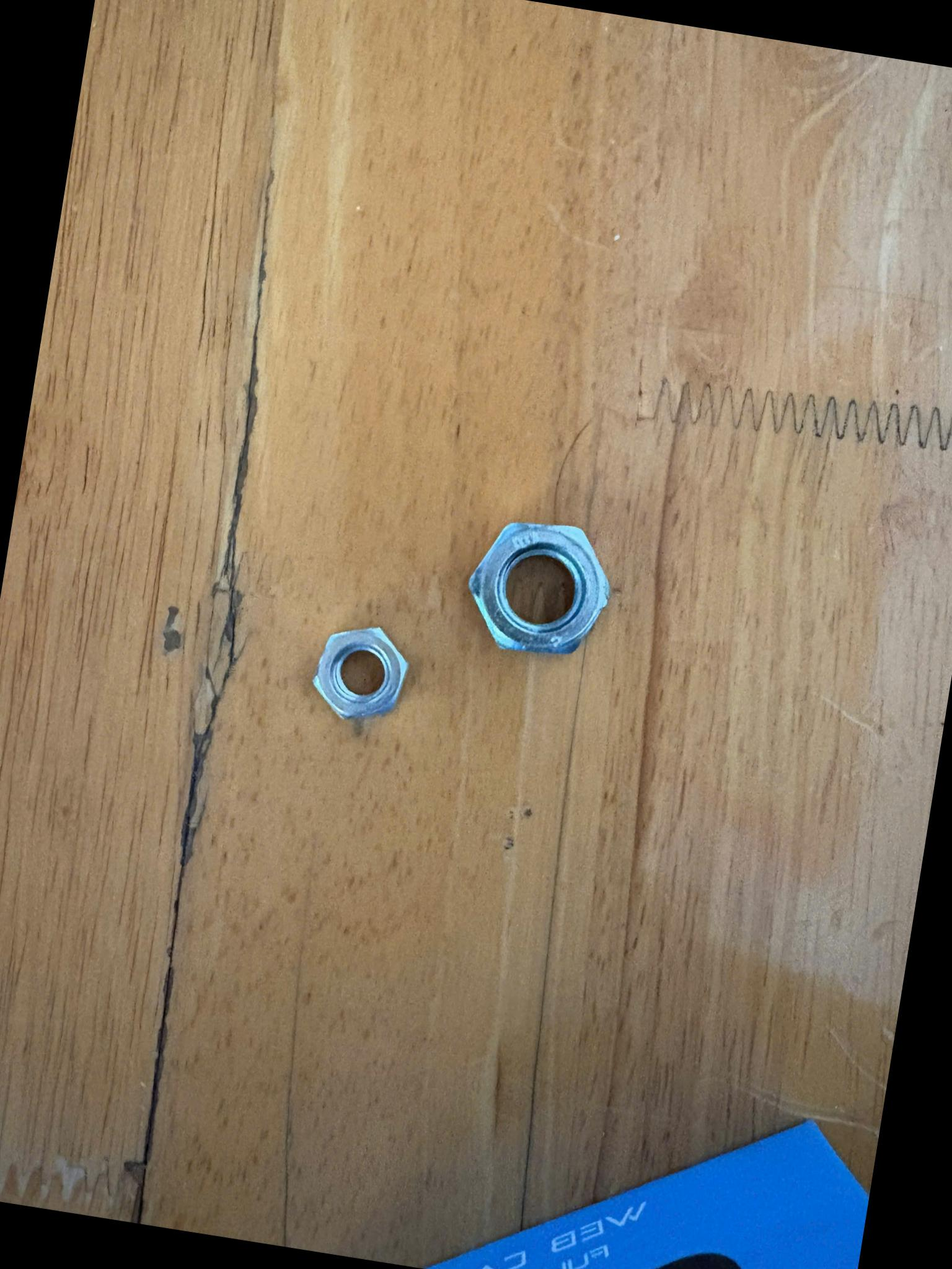nut: (436, 495, 634, 700), (289, 616, 426, 741)
